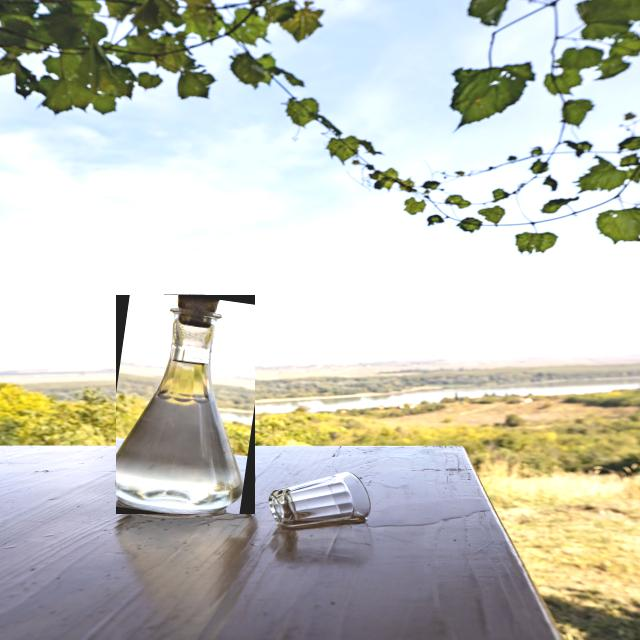Bottle: (115, 295, 253, 513)
